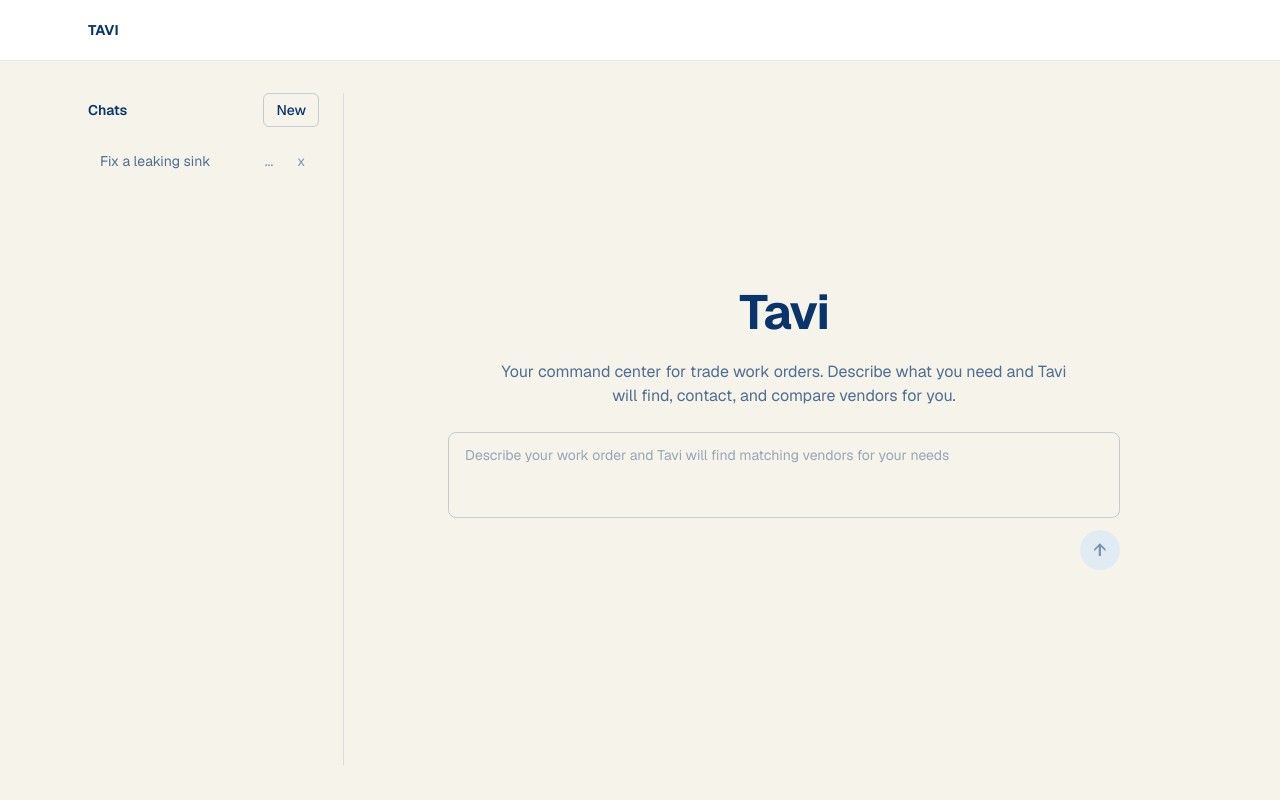
Test: TaviPage › renames a previous chat in the sidebar
The image size is (1280, 800).
Expected: the button "Fix a leaking sink" is shown, top-left (88, 143), bottom-right (251, 179)
Step 1. Click the button named "Chat options for Fix a leaking sink" → [269, 161], box top-left (255, 147), bottom-right (283, 175)
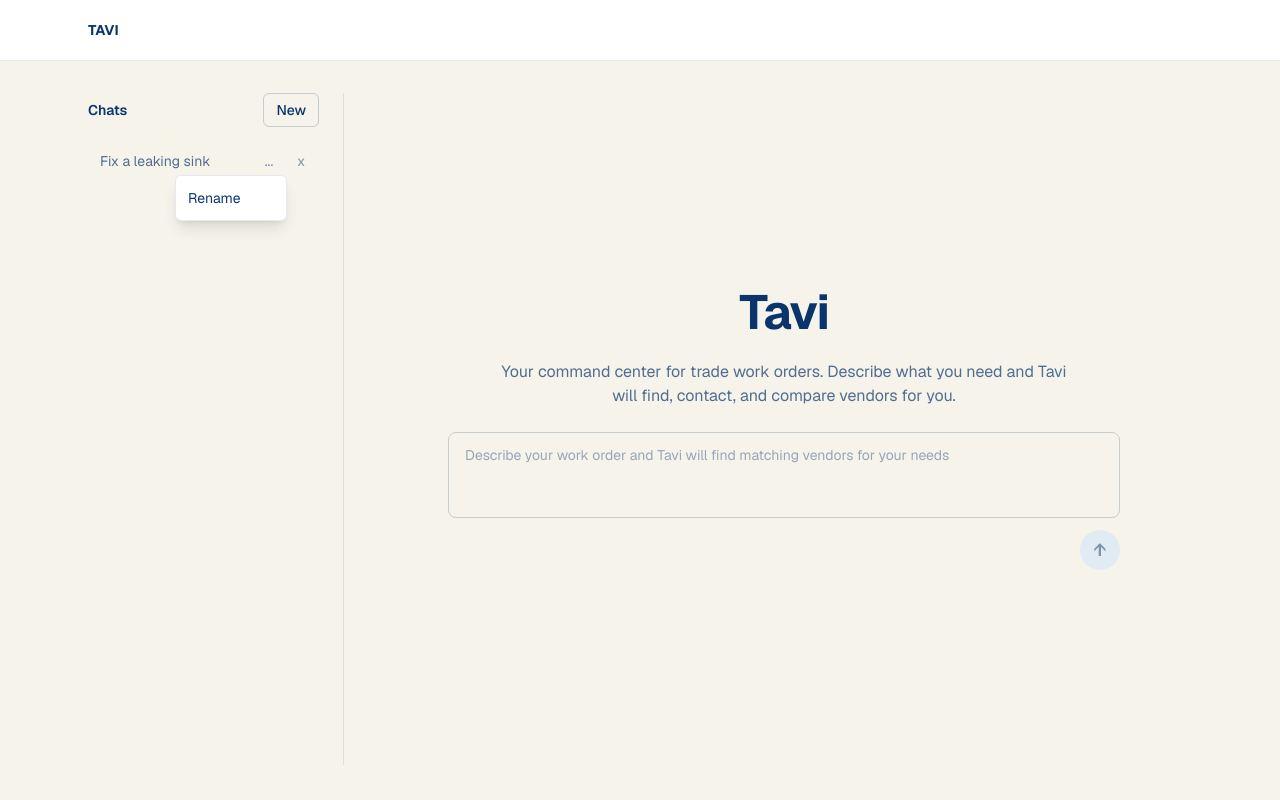
Step 2. Click the button "Rename" → [231, 198], box top-left (176, 180), bottom-right (286, 216)
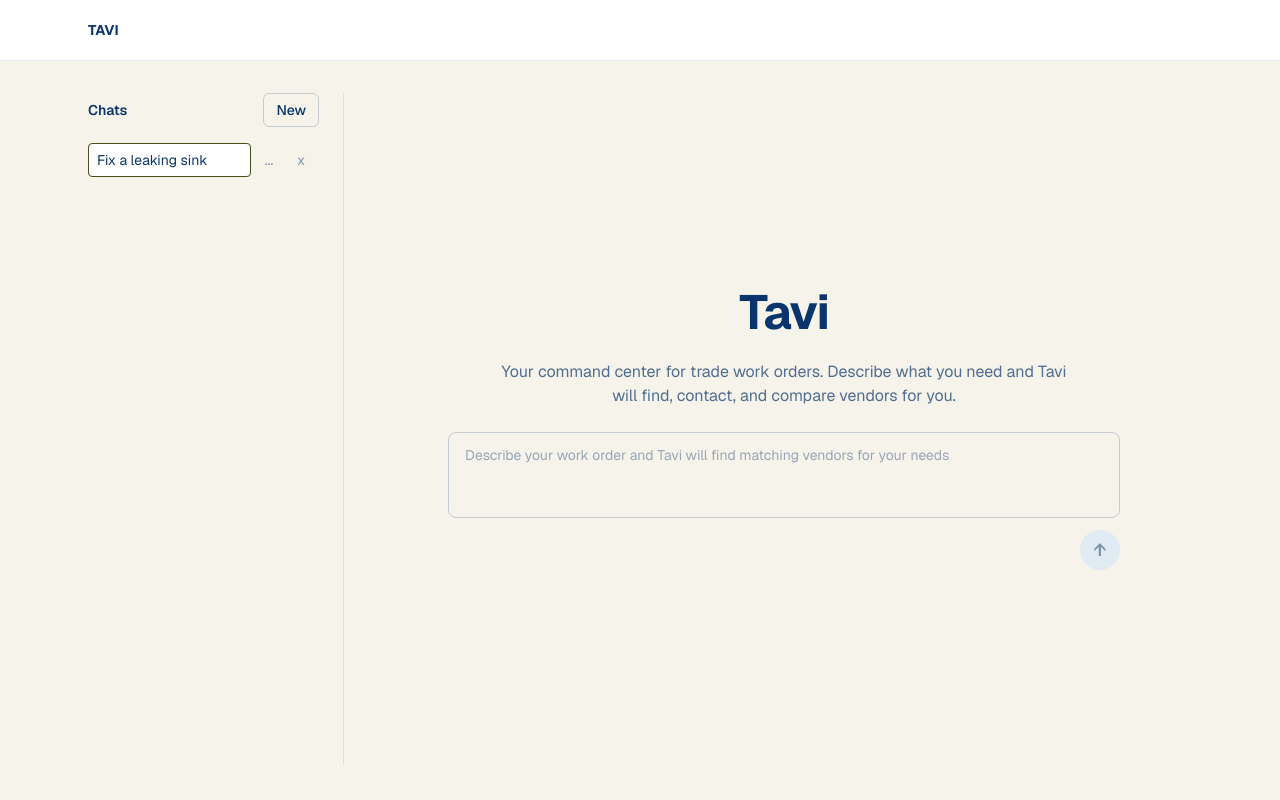
Step 3. Replace the text in the field named "Rename chat" with "Leaking sink" → [170, 160], box top-left (88, 143), bottom-right (251, 177)
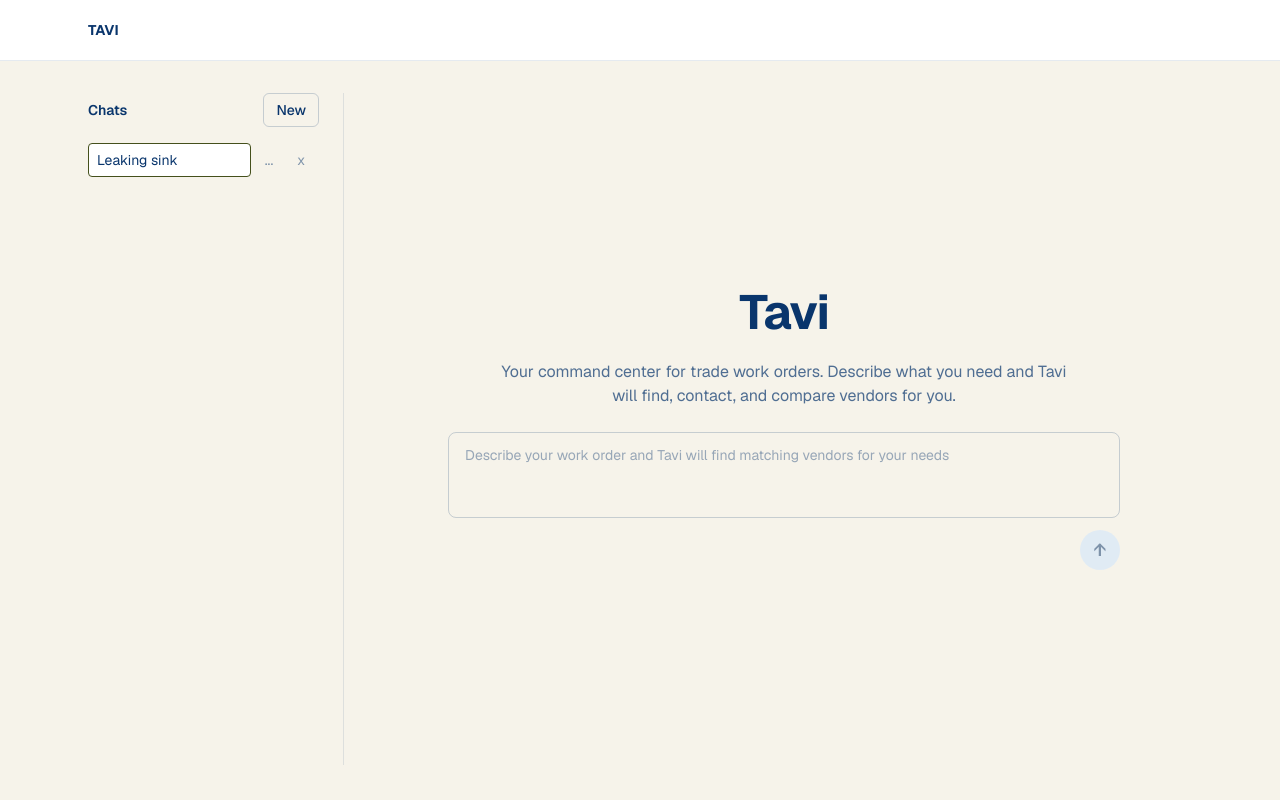
Step 4. Press Enter in the field named "Rename chat", box top-left (88, 143), bottom-right (251, 177)
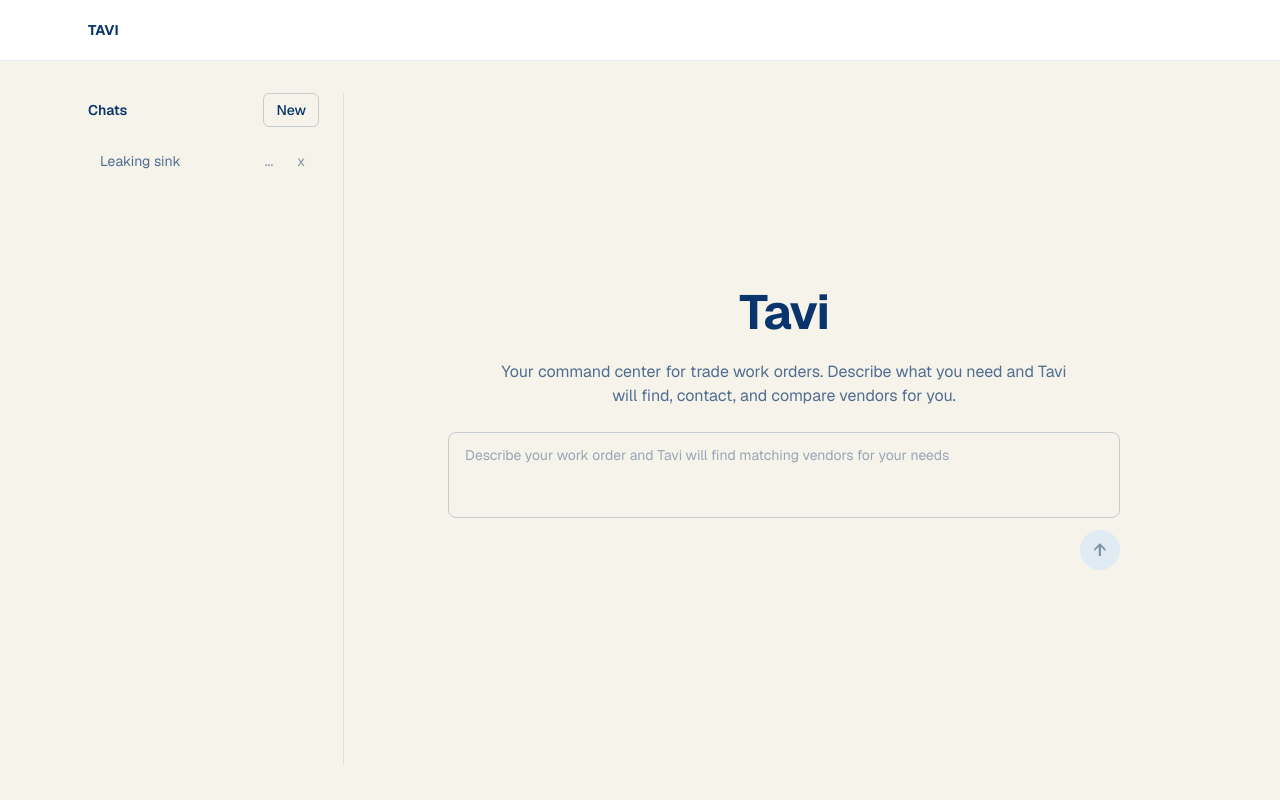
Now the button "Leaking sink" is shown, box top-left (88, 143), bottom-right (251, 179)
